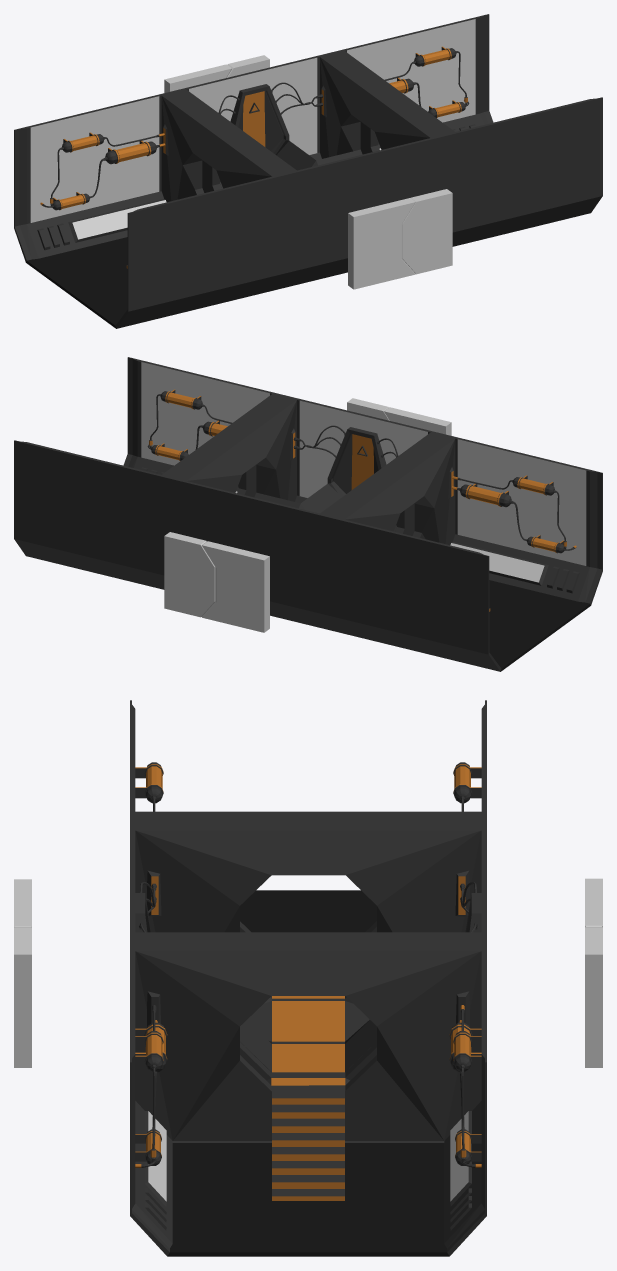
Rendered from Air-Lock.fbx.
The picture shows the model from 3 angles, top to bottom: view 1: azimuth 30°, elevation 25°; view 2: azimuth 150°, elevation 25°; view 3: azimuth 270°, elevation 25°; orthographic projection. The views are drawn at different scales.
Parts seen in each view (by area): view 1: Air_Lock, Cube_1, Cube_2, Cube_1_2, Cube_2_2; view 2: Air_Lock, Cube_1_2, Cube_2_2, Cube_1, Cube_2; view 3: Air_Lock, Cube_2, Cube_2_2, Cube_1_2, Cube_1.
Boxes of the visible parts, x1,y1,x2,y2 form: Air_Lock: [14, 14, 602, 328]; Cube_1: [348, 198, 415, 289]; Cube_2: [402, 189, 452, 274]; Cube_1_2: [164, 64, 232, 92]; Cube_2_2: [227, 55, 269, 77]; Air_Lock: [14, 357, 602, 671]; Cube_1_2: [202, 541, 269, 632]; Cube_2_2: [164, 532, 215, 617]; Cube_1: [384, 407, 451, 435]; Cube_2: [347, 398, 389, 420]; Air_Lock: [130, 700, 486, 1256]; Cube_2: [14, 927, 31, 1067]; Cube_2_2: [585, 927, 602, 1067]; Cube_1_2: [585, 878, 602, 926]; Cube_1: [14, 879, 31, 926].
Size of the model in its own units: 2400 by 600 by 1650.
